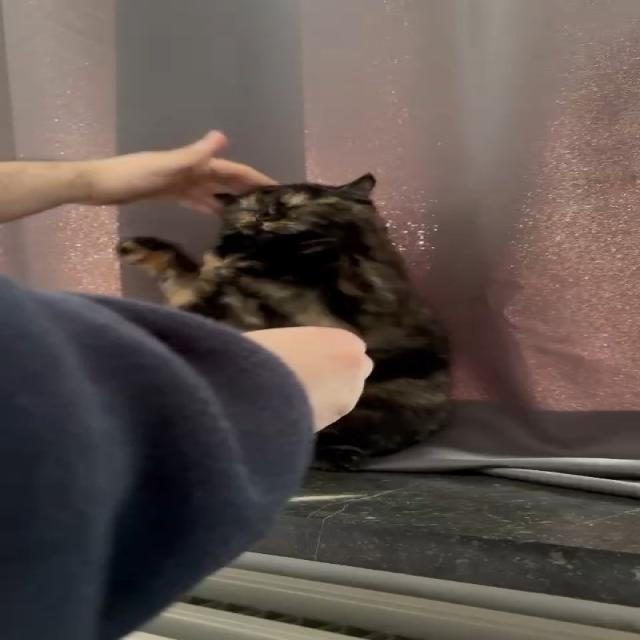authorized: (114, 171, 454, 472)
